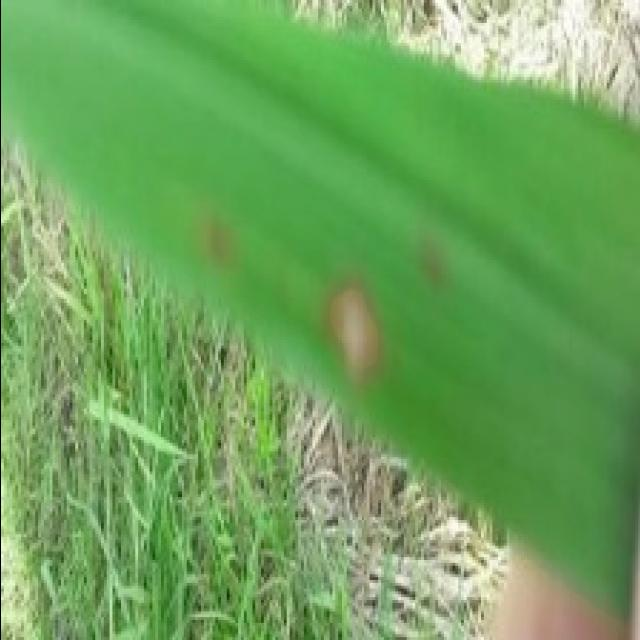Unhealthy: (317, 269, 384, 386), (406, 229, 450, 292), (202, 202, 240, 274)
